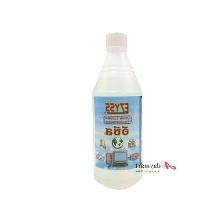cleaning_solution: (90, 28, 146, 192)
